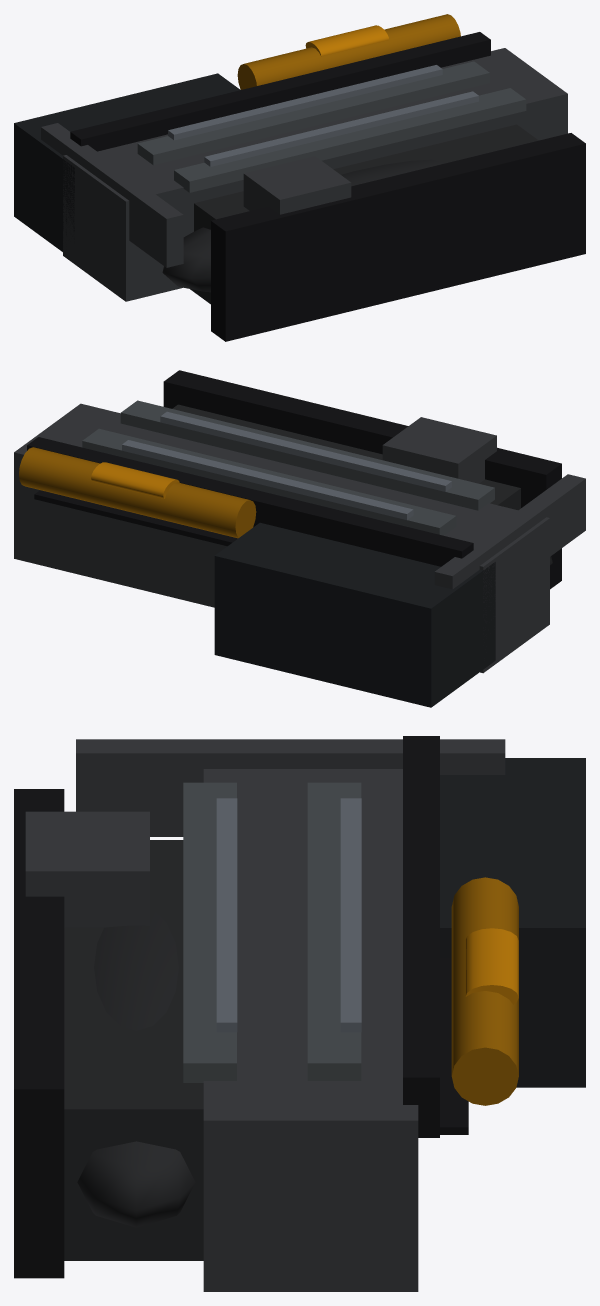
Rendered from CMU3DHuntingMagazineCloud.glb.
3 renders of one model, top to bottom at view 1: azimuth 30°, elevation 25°; view 2: azimuth 150°, elevation 25°; view 3: azimuth 270°, elevation 25°, orthographic. The views are drawn at different scales.
Visible parts, largest first — view 1: lower baseplate, short upper shell, upper feed rail, stepped rear shoulder, broad stamped horizontal flute 1, broad stamped horizontal flute 2, left turned seam, visible brass source stripe, bottom indexing lug, lower flat center, flute upper reflection 1, flute upper reflection 2 (+2 smaller); view 2: stepped rear shoulder, short upper shell, lower baseplate, upper feed rail, visible brass source stripe, broad stamped horizontal flute 2, left turned seam, broad stamped horizontal flute 1, bottom indexing lug, flute upper reflection 1, flute upper reflection 2, feed opening recess (+2 smaller); view 3: short upper shell, stepped rear shoulder, lower flat center, lower baseplate, left turned seam, tapered lower shell, upper feed rail, bottom indexing lug, broad stamped horizontal flute 1, broad stamped horizontal flute 2, visible brass source stripe, flute upper reflection 1 (+3 smaller).
Boxes of the visible parts, box(x1,y1,x2,y2) form: lower baseplate: box(211, 133, 585, 341); short upper shell: box(63, 48, 567, 301); upper feed rail: box(70, 32, 490, 151); stepped rear shoulder: box(14, 73, 240, 251); broad stamped horizontal flute 1: box(137, 61, 489, 165); broad stamped horizontal flute 2: box(174, 88, 526, 192); left turned seam: box(41, 123, 183, 267); visible brass source stripe: box(237, 14, 460, 89); bottom indexing lug: box(243, 156, 351, 214); lower flat center: box(190, 124, 538, 304); flute upper reflection 1: box(168, 65, 442, 140); flute upper reflection 2: box(204, 91, 478, 166); stepped rear shoulder: box(214, 522, 495, 707); short upper shell: box(14, 403, 549, 673); lower baseplate: box(163, 370, 561, 589); upper feed rail: box(27, 437, 473, 566); visible brass source stripe: box(19, 447, 256, 538); broad stamped horizontal flute 2: box(120, 400, 494, 510); left turned seam: box(434, 474, 585, 589); broad stamped horizontal flute 1: box(82, 428, 456, 535); bottom indexing lug: box(382, 417, 496, 483); flute upper reflection 1: box(122, 440, 413, 519); flute upper reflection 2: box(160, 411, 451, 491); feed opening recess: box(34, 490, 237, 546); short upper shell: box(203, 769, 418, 1291); stepped rear shoulder: box(440, 758, 585, 1087); lower flat center: box(64, 840, 203, 1260); lower baseplate: box(14, 789, 64, 1278); left turned seam: box(76, 739, 505, 836); tapered lower shell: box(77, 908, 195, 1227); upper feed rail: box(403, 736, 439, 1137); bottom indexing lug: box(25, 811, 149, 927); broad stamped horizontal flute 1: box(307, 782, 361, 1080); broad stamped horizontal flute 2: box(183, 782, 236, 1082); visible brass source stripe: box(451, 877, 518, 1105); flute upper reflection 1: box(340, 798, 361, 1032).
Bounding box in the file's own units: 0.4062 × 0.123 × 0.2664.
